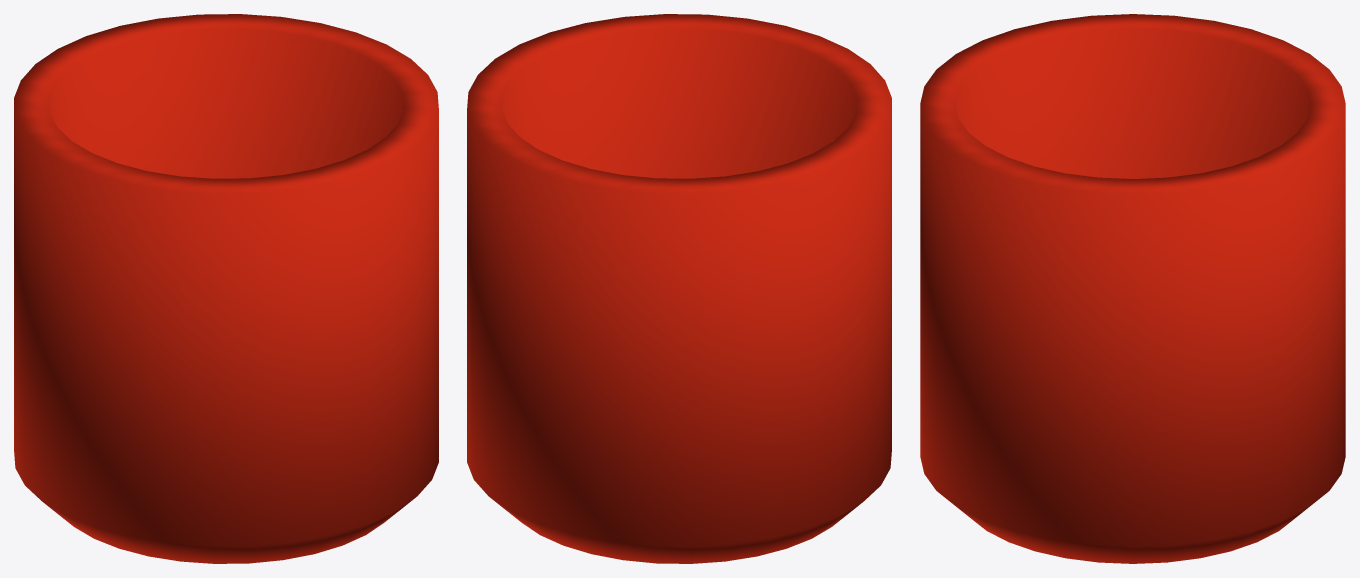
File: testBowl.obj
3 renders of one model, left to right at view 1: azimuth 30°, elevation 25°; view 2: azimuth 150°, elevation 25°; view 3: azimuth 270°, elevation 25°, orthographic.
Visible parts, largest first — view 1: Cylinder; view 2: Cylinder; view 3: Cylinder.
Part boxes in pixels (x1,y1,x2,y2): Cylinder: (14,14,438,563); Cylinder: (467,14,891,563); Cylinder: (920,14,1345,563).
Size of the model in its own units: 2 by 2 by 2.
